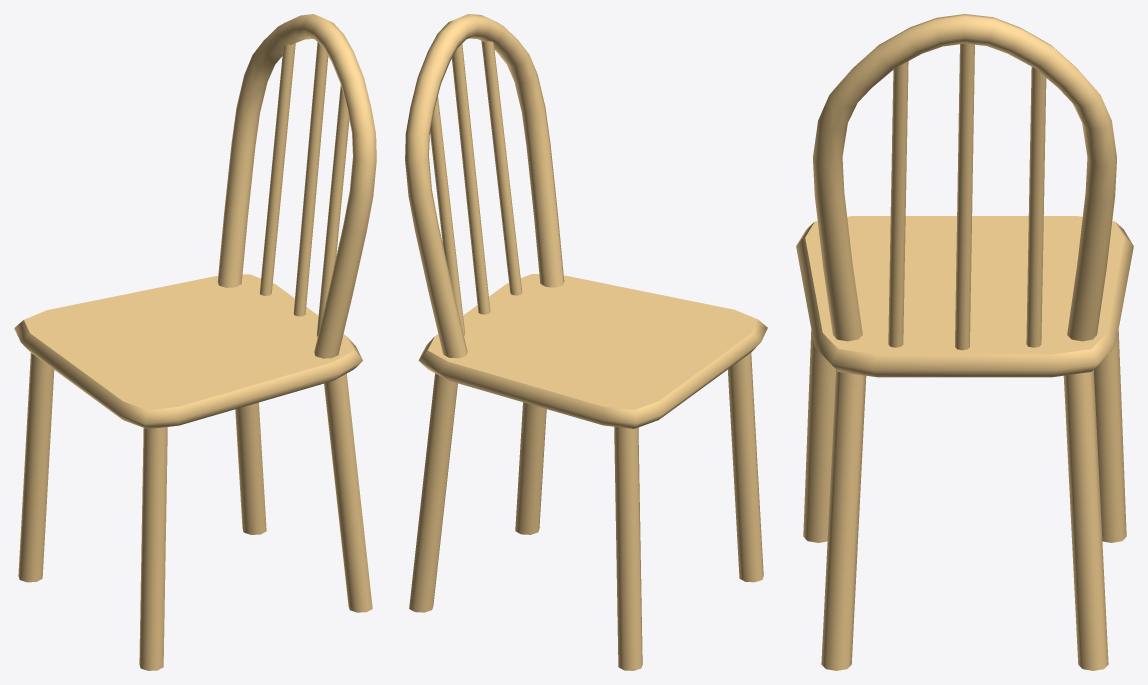
The model's file is chair.FBX.
3 renders of one model, left to right at view 1: azimuth 30°, elevation 25°; view 2: azimuth 150°, elevation 25°; view 3: azimuth 270°, elevation 25°, orthographic. The views are drawn at different scales.
Parts seen in each view (by area): view 1: Cylinder001; view 2: Cylinder001; view 3: Cylinder001.
Part boxes in pixels (left/top/right/bottom): Cylinder001: left=14, top=14, right=376, bottom=670; Cylinder001: left=405, top=14, right=767, bottom=670; Cylinder001: left=796, top=14, right=1133, bottom=670.
Bounding box in the file's own units: 44.12 × 86.6 × 40.23.
